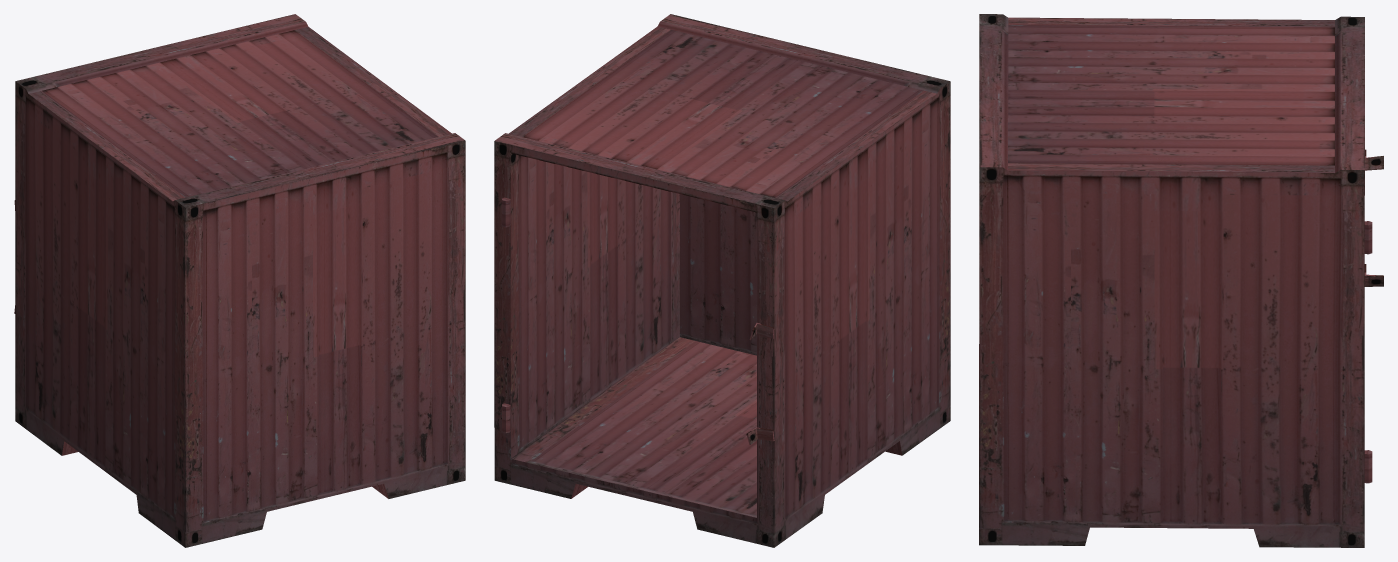
File: Container_BoxOpen08.FBX
The picture shows the model from 3 angles, left to right: view 1: azimuth 30°, elevation 25°; view 2: azimuth 150°, elevation 25°; view 3: azimuth 270°, elevation 25°; orthographic projection. The views are drawn at different scales.
Visible parts, largest first — view 1: Container_BoxOpen08; view 2: Container_BoxOpen08; view 3: Container_BoxOpen08.
Part boxes in pixels (left/top/right/bottom): Container_BoxOpen08: left=14, top=14, right=465, bottom=547; Container_BoxOpen08: left=494, top=14, right=950, bottom=547; Container_BoxOpen08: left=979, top=14, right=1383, bottom=547.
Size of the model in its own units: 99.24 by 114 by 110.
